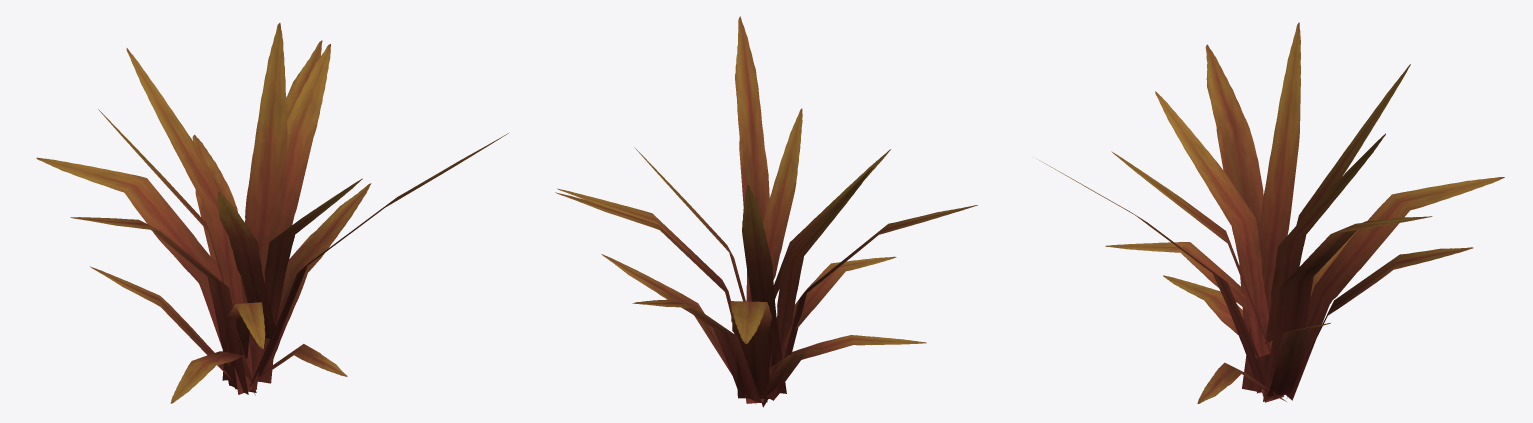
File: yw_huxiaoshamo_guanmu01.FBX
3 renders of one model, left to right at view 1: azimuth 30°, elevation 25°; view 2: azimuth 150°, elevation 25°; view 3: azimuth 270°, elevation 25°, orthographic. The views are drawn at different scales.
Visible parts, largest first — view 1: yw_huxiaoshamo_guanmu01; view 2: yw_huxiaoshamo_guanmu01; view 3: yw_huxiaoshamo_guanmu01.
Boxes of the visible parts, <box> form: yw_huxiaoshamo_guanmu01: <box>36,23,508,403</box>; yw_huxiaoshamo_guanmu01: <box>555,16,977,407</box>; yw_huxiaoshamo_guanmu01: <box>1039,22,1504,403</box>.
Size of the model in its own units: 133 by 103 by 149.
